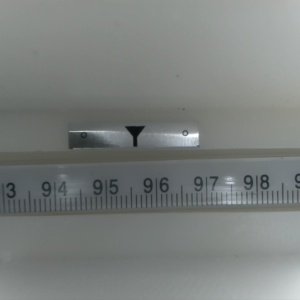3: (5, 183, 15, 198)
4: (56, 181, 66, 195)
5: (109, 178, 118, 194)
6: (159, 176, 169, 192)
7: (209, 176, 218, 191)
8: (259, 174, 268, 189)
9: (142, 177, 152, 193), (93, 179, 103, 195), (193, 176, 203, 191), (243, 175, 253, 190), (41, 182, 51, 197), (293, 173, 300, 189)
finger: (123, 126, 145, 149)
